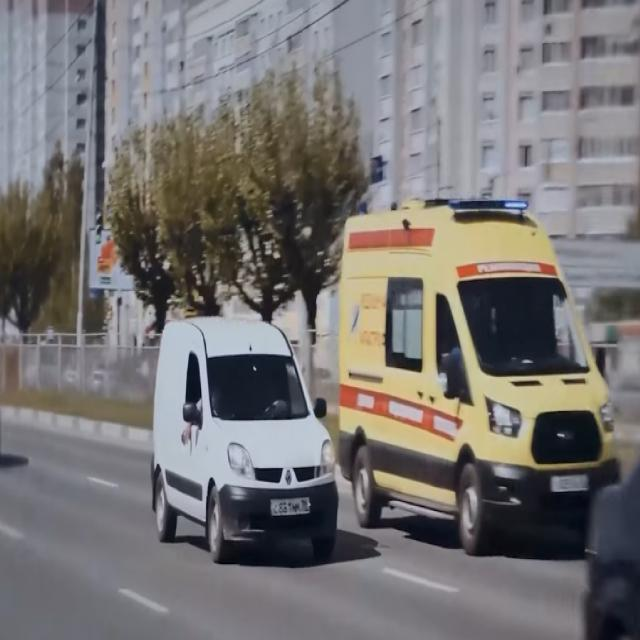intensive care unit: (340, 195, 622, 561)
non emergency car: (152, 313, 340, 564)
